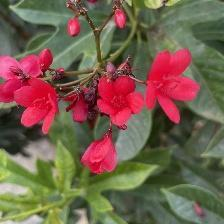jatropha: (97, 74, 147, 128)
